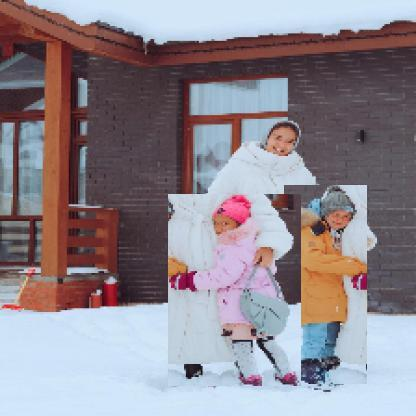child: (169, 195, 303, 388), (285, 186, 369, 386)
